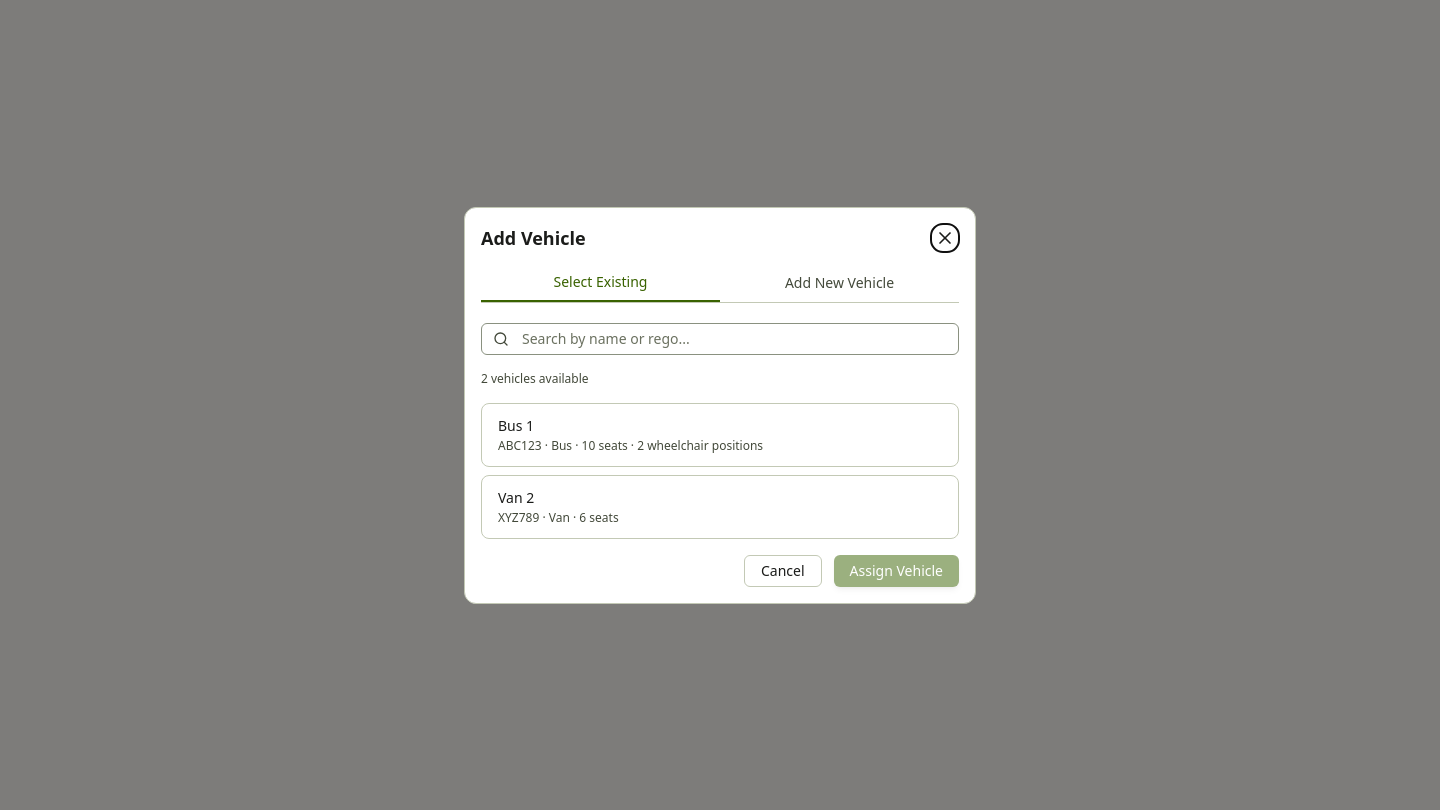
Test: AddVehicleModal — Select Existing live conflict gate (trip-side parity) › requires a non-empty override reason before submitting when a finding requires one
Click the text "Bus 1".
click(516, 425)  # box [498, 416, 534, 434]
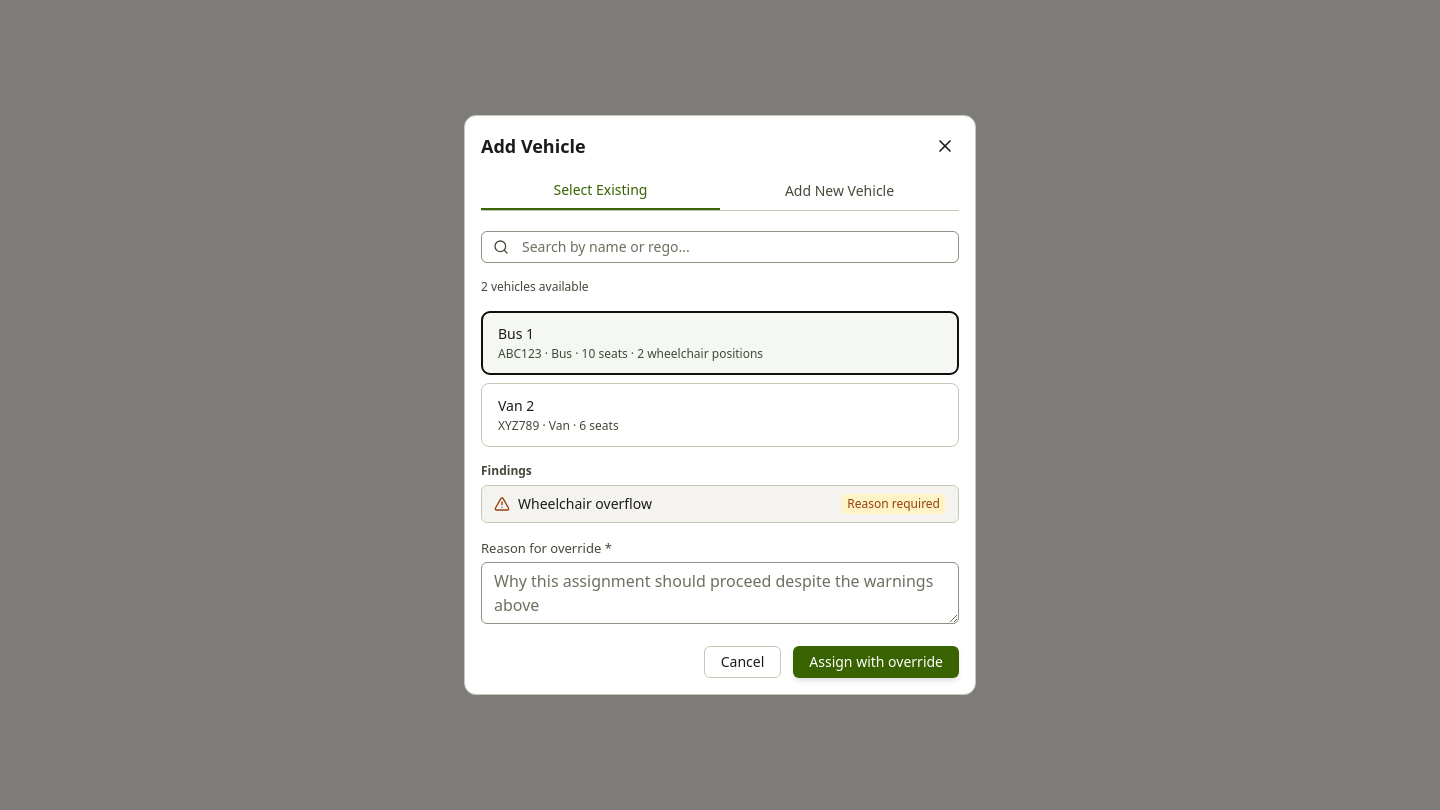
Expected: the text "Wheelchair overflow" is shown, [518, 494, 652, 514]
Click the button "Assign with override".
click(876, 662)  # box [793, 646, 959, 678]
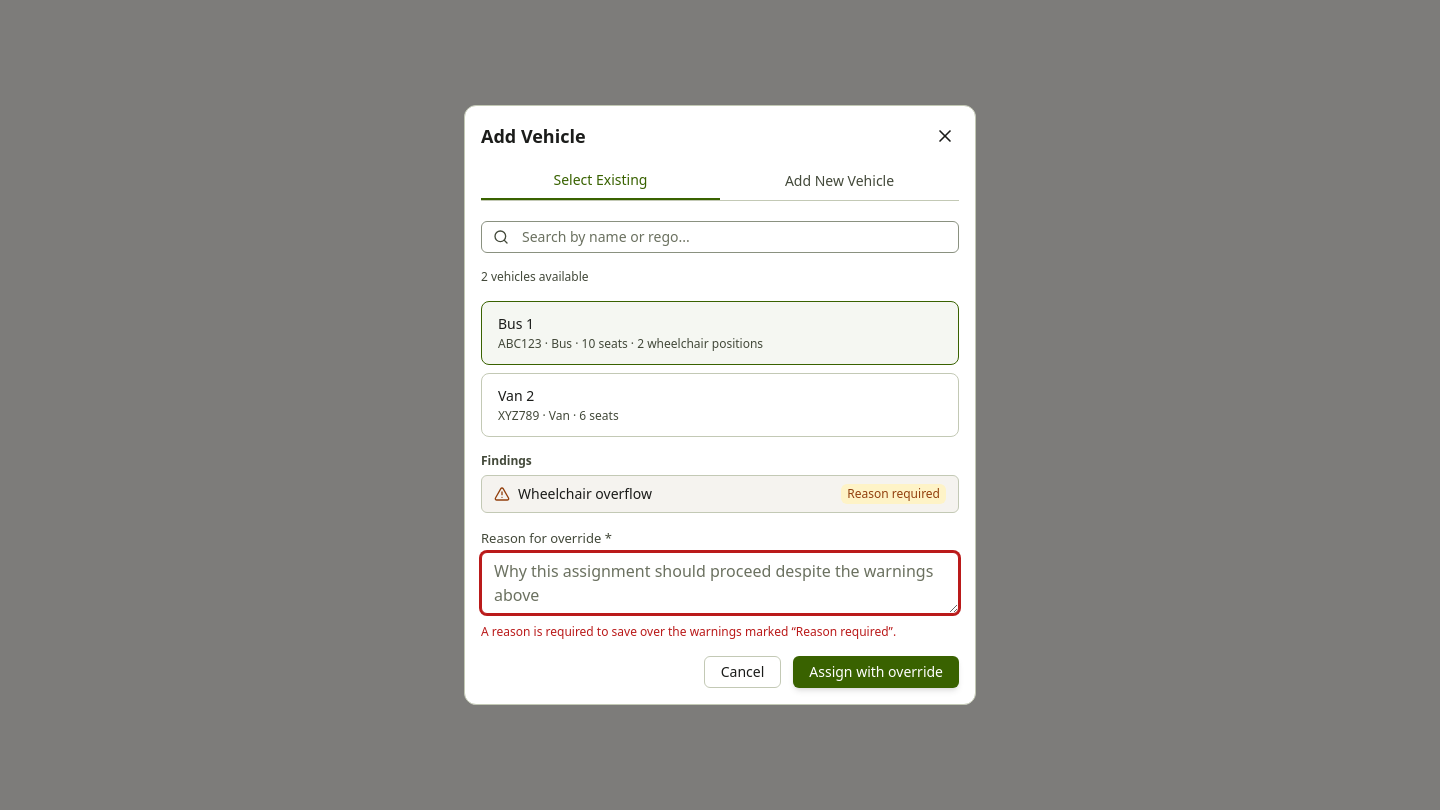
Expected: the text "A reason is required to save over the warnings marked “Reason required”." is shown, [481, 624, 959, 640]
